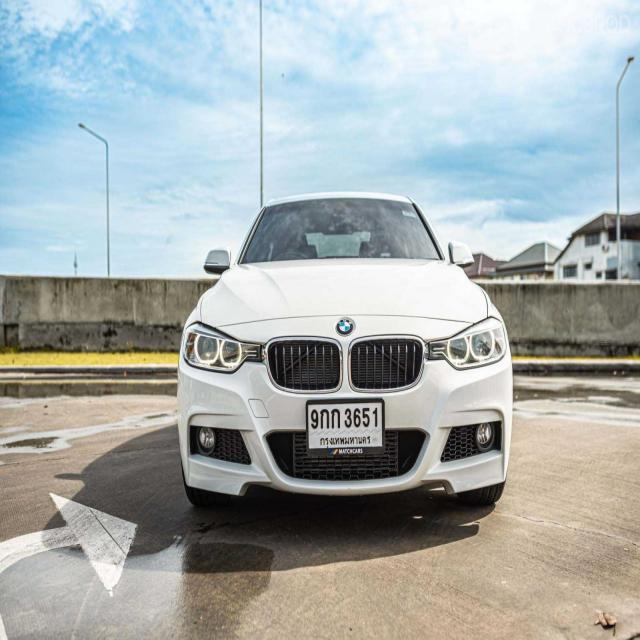license_plate: (304, 397, 386, 459)
